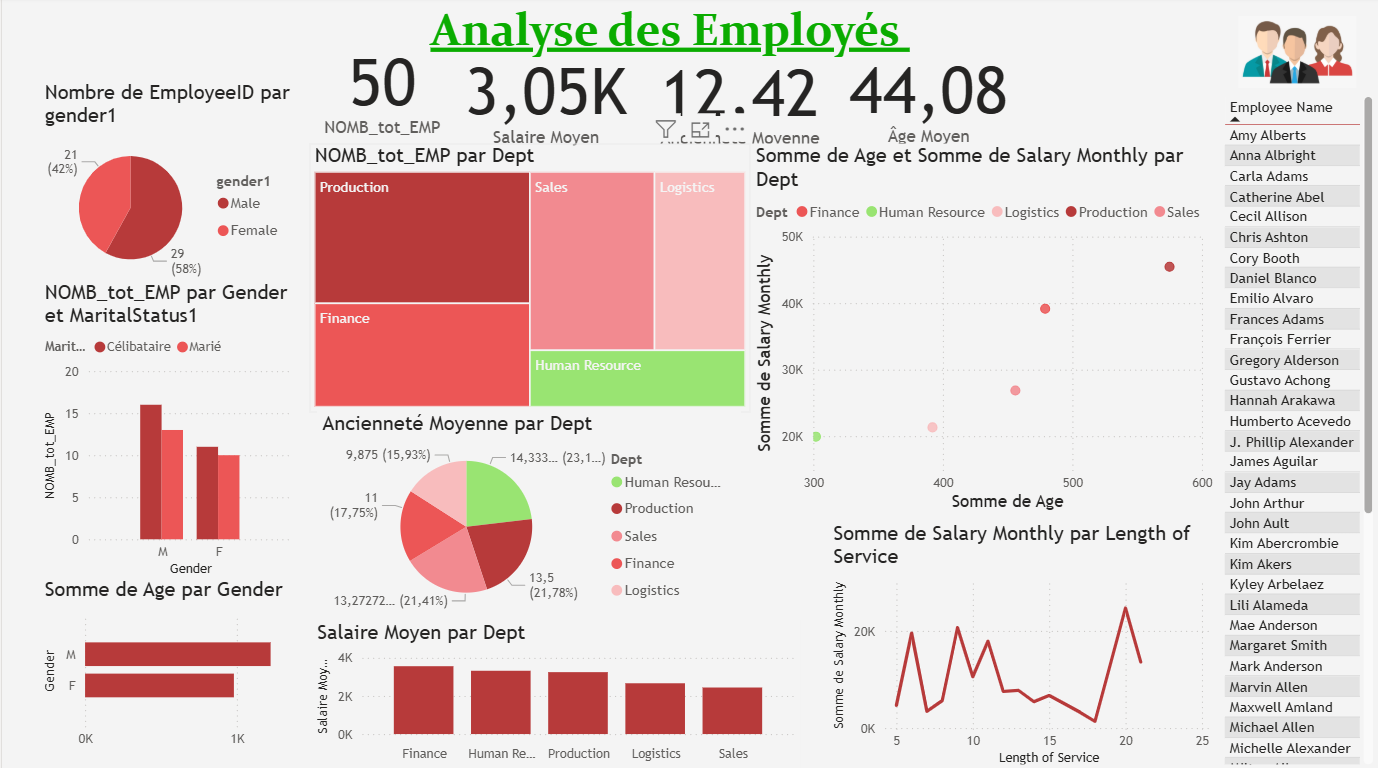

What the dashboard file says about the page in this screenshot:
{"tool":"powerbi","page":{"name":"Analyse des Employés ","canvas":[1280,720],"ordinal":0},"visuals":[{"type":"tableEx","fields":{"Values":["SalesData - Employer.Employee Name"]},"box":[1131.4,88.4,148.8,631.4],"z":0},{"type":"textbox","box":[330.2,0,582.6,65.1],"z":1000},{"type":"image","box":[1145.4,0,119.8,104.7],"z":2000},{"type":"card","title":"Nombre total d’employés","fields":{"Values":["SalesData - Employer.NOMB_tot_EMP"]},"box":[276.7,32.6,154.7,104.7],"z":3000},{"type":"card","fields":{"Values":["SalesData - Employer.Salaire Moyen"]},"box":[416.3,43,180.2,101.2],"z":4000},{"type":"card","fields":{"Values":["SalesData - Employer.Ancienneté Moyenne"]},"box":[596.5,44.2,180.2,101.2],"z":5000},{"type":"card","fields":{"Values":["SalesData - Employer.Âge Moyen"]},"box":[768.6,39.5,187.2,105.8],"z":6000},{"type":"pieChart","fields":{"Category":["SalesData - Employer.gender1"],"Y":["SalesData - Employer.EmployeeID"]},"box":[34.9,77.9,240.7,195.3],"z":7000},{"type":"clusteredColumnChart","fields":{"Y":["SalesData - Employer.NOMB_tot_EMP"],"Category":["SalesData - Employer.Gender"],"Series":["SalesData - Employer.MaritalStatus1"]},"box":[34.9,264,240.7,280.2],"z":8000},{"type":"clusteredBarChart","fields":{"Category":["SalesData - Employer.Gender"],"Y":["SalesData - Employer.Age"]},"box":[34.9,540.7,266.3,166.3],"z":9000},{"type":"clusteredColumnChart","fields":{"Category":["SalesData - Employer.Dept"],"Y":["SalesData - Employer.Salaire Moyen"]},"box":[288.4,580.2,454.7,139.5],"z":10000},{"type":"treemap","fields":{"Group":["SalesData - Employer.Dept"],"Values":["SalesData - Employer.NOMB_tot_EMP"]},"box":[286,137.2,410.5,250],"z":11000},{"type":"pieChart","fields":{"Category":["SalesData - Employer.Dept"],"Y":["SalesData - Employer.Ancienneté Moyenne"]},"box":[293,386,394.2,194.2],"z":12000},{"type":"scatterChart","fields":{"X":["SalesData - Employer.Age"],"Y":["SalesData - Employer.Salary Monthly"],"Series":["SalesData - Employer.Dept"]},"box":[696.5,137.2,434.9,346.5],"z":13000},{"type":"lineChart","fields":{"Category":["SalesData - Employer.Length of Service"],"Y":["SalesData - Employer.Salary Monthly"]},"box":[768.6,488.4,362.8,231.4],"z":14000}]}

Visuals, with their boxes in screenshot pixels (x1, y1, x2, y2), scaled from the page's 1280x720 canvas onto the 1378x768 screenshot:
tableEx - SalesData - Employer.Employee Name: region(1218, 94, 1377, 767)
textbox: region(355, 0, 983, 69)
image: region(1233, 0, 1362, 112)
"Nombre total d’employés" card: region(298, 35, 464, 146)
card - SalesData - Employer.Salaire Moyen: region(448, 46, 642, 154)
card - SalesData - Employer.Ancienneté Moyenne: region(642, 47, 836, 155)
card - SalesData - Employer.Âge Moyen: region(827, 42, 1029, 155)
pieChart - SalesData - Employer.gender1 x SalesData - Employer.EmployeeID: region(38, 83, 297, 291)
clusteredColumnChart - SalesData - Employer.NOMB_tot_EMP x SalesData - Employer.Gender: region(38, 282, 297, 580)
clusteredBarChart - SalesData - Employer.Gender x SalesData - Employer.Age: region(38, 577, 324, 754)
clusteredColumnChart - SalesData - Employer.Dept x SalesData - Employer.Salaire Moyen: region(310, 619, 800, 767)
treemap - SalesData - Employer.Dept x SalesData - Employer.NOMB_tot_EMP: region(308, 146, 750, 413)
pieChart - SalesData - Employer.Dept x SalesData - Employer.Ancienneté Moyenne: region(315, 412, 740, 619)
scatterChart - SalesData - Employer.Age x SalesData - Employer.Salary Monthly: region(750, 146, 1218, 516)
lineChart - SalesData - Employer.Length of Service x SalesData - Employer.Salary Monthly: region(827, 521, 1218, 767)
